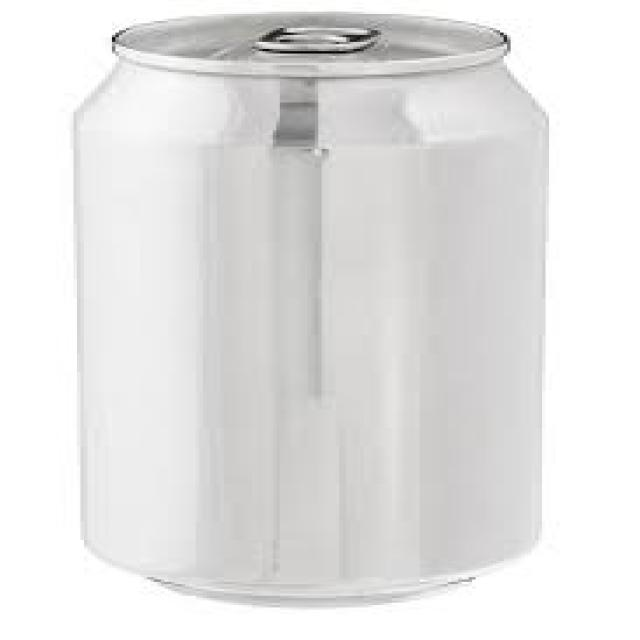Cans: (52, 5, 580, 612)
